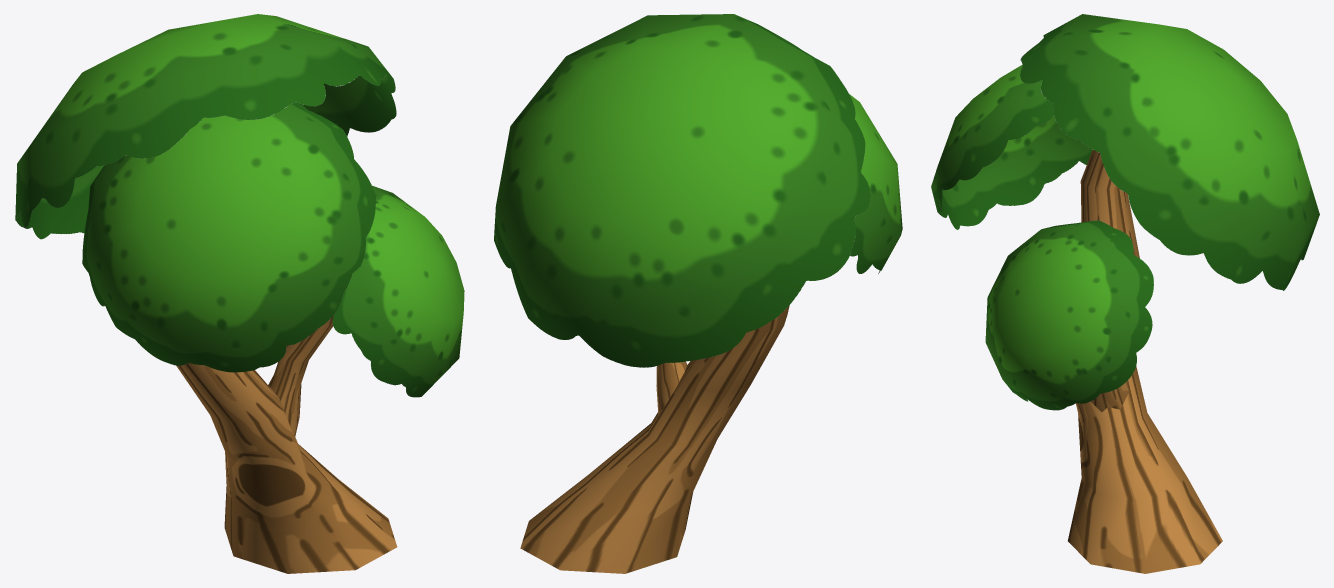
3 views of the same model, side by side, from view 1: azimuth 30°, elevation 25°; view 2: azimuth 150°, elevation 25°; view 3: azimuth 270°, elevation 25° (orthographic). The views are drawn at different scales.
Parts seen in each view (by area): view 1: Cylinder013, Cylinder012, Cylinder007, Cylinder014, Cylinder008; view 2: Cylinder012, Cylinder007, Cylinder013, Cylinder008; view 3: Cylinder012, Cylinder014, Cylinder007, Cylinder013, Cylinder008.
Part boxes in pixels (<box>): Cylinder013: <box>82,102,375,372</box>; Cylinder012: <box>15,14,396,239</box>; Cylinder007: <box>176,363,397,573</box>; Cylinder014: <box>332,185,464,397</box>; Cylinder008: <box>268,315,333,437</box>; Cylinder012: <box>494,14,870,367</box>; Cylinder007: <box>520,306,789,573</box>; Cylinder013: <box>849,94,902,273</box>; Cylinder008: <box>656,361,687,413</box>; Cylinder012: <box>1020,14,1319,290</box>; Cylinder014: <box>985,220,1153,410</box>; Cylinder007: <box>1068,150,1222,573</box>; Cylinder013: <box>931,64,1092,229</box>; Cylinder008: <box>1090,383,1129,411</box>.
Size of the model in its own units: 145 by 192 by 145.
Materials: 1 (1 with a texture image).
